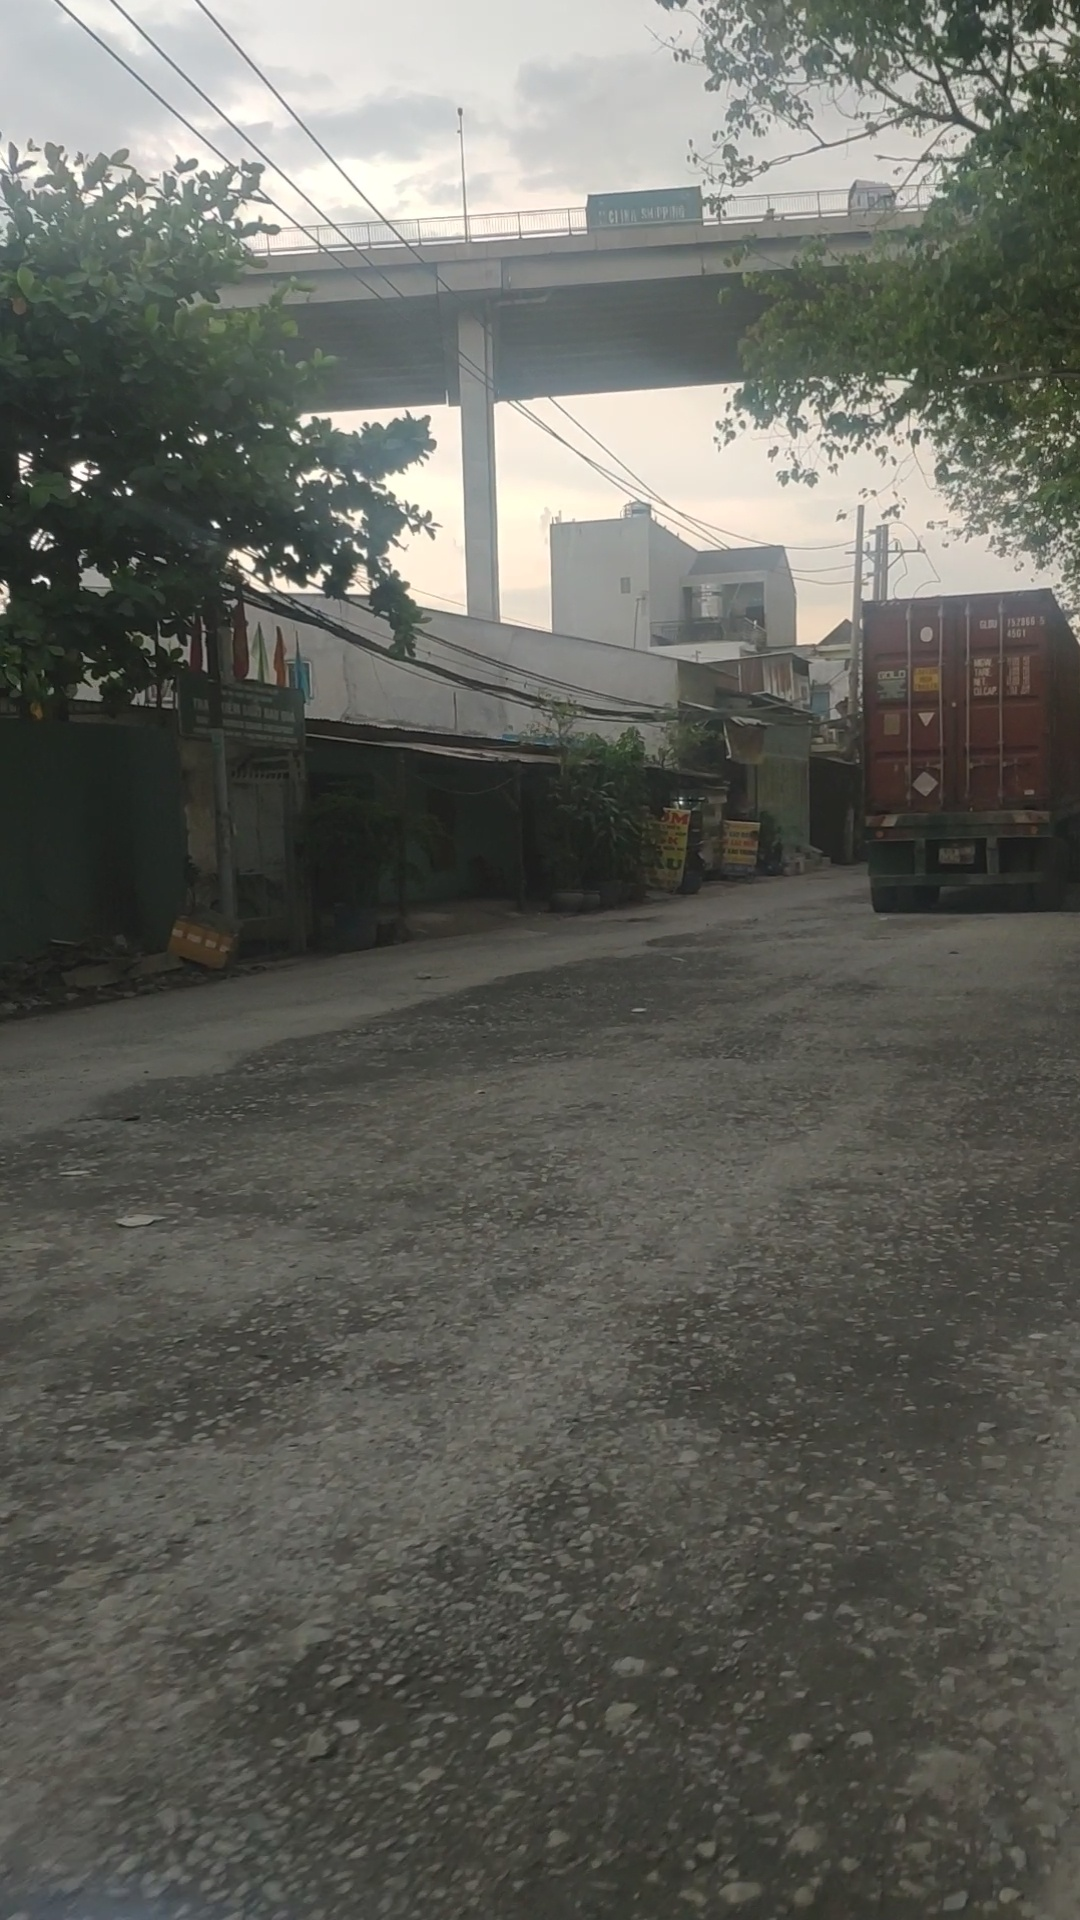hole: (219, 1033, 585, 1075), (92, 1077, 372, 1127), (471, 967, 638, 1005), (637, 930, 839, 947)
